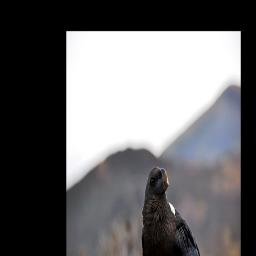Crow: (140, 163, 214, 256)
